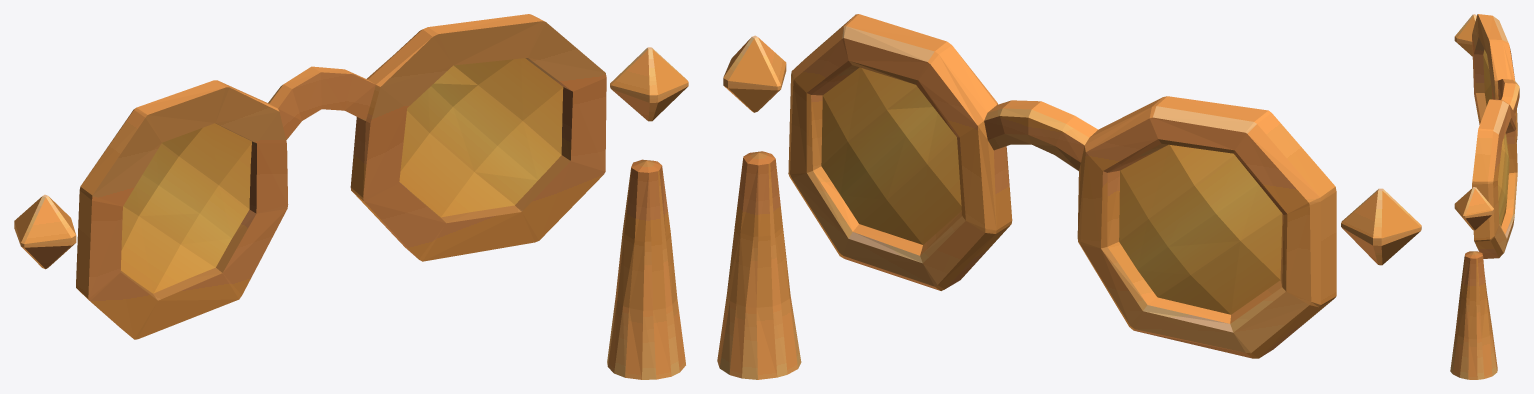
File: CharSkyKid_Horn_FortuneGlasses.glb
3 views of the same model, side by side, from view 1: azimuth 30°, elevation 25°; view 2: azimuth 150°, elevation 25°; view 3: azimuth 270°, elevation 25° (orthographic). The views are drawn at different scales.
Parts seen in each view (by area): view 1: CharSkyKid_Horn_FortuneGlasses; view 2: CharSkyKid_Horn_FortuneGlasses; view 3: CharSkyKid_Horn_FortuneGlasses.
Part boxes in pixels (<box>): CharSkyKid_Horn_FortuneGlasses: <box>14,14,688,379</box>; CharSkyKid_Horn_FortuneGlasses: <box>717,14,1421,379</box>; CharSkyKid_Horn_FortuneGlasses: <box>1450,14,1519,379</box>.
Size of the model in its own units: 2.36 by 1.25 by 0.363.
1 material, 1 textured.
